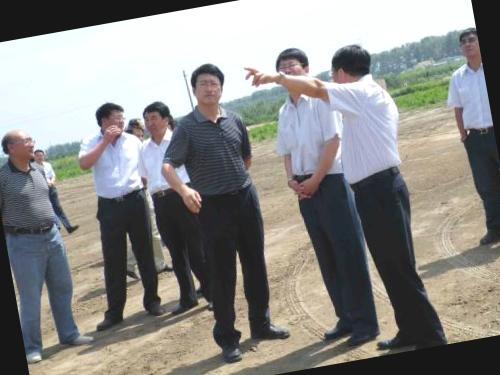no_helmet: (323, 36, 380, 92), (182, 56, 232, 115), (268, 40, 316, 91), (90, 97, 131, 142), (137, 96, 177, 142), (0, 122, 36, 166), (452, 22, 481, 68), (122, 114, 148, 150)
